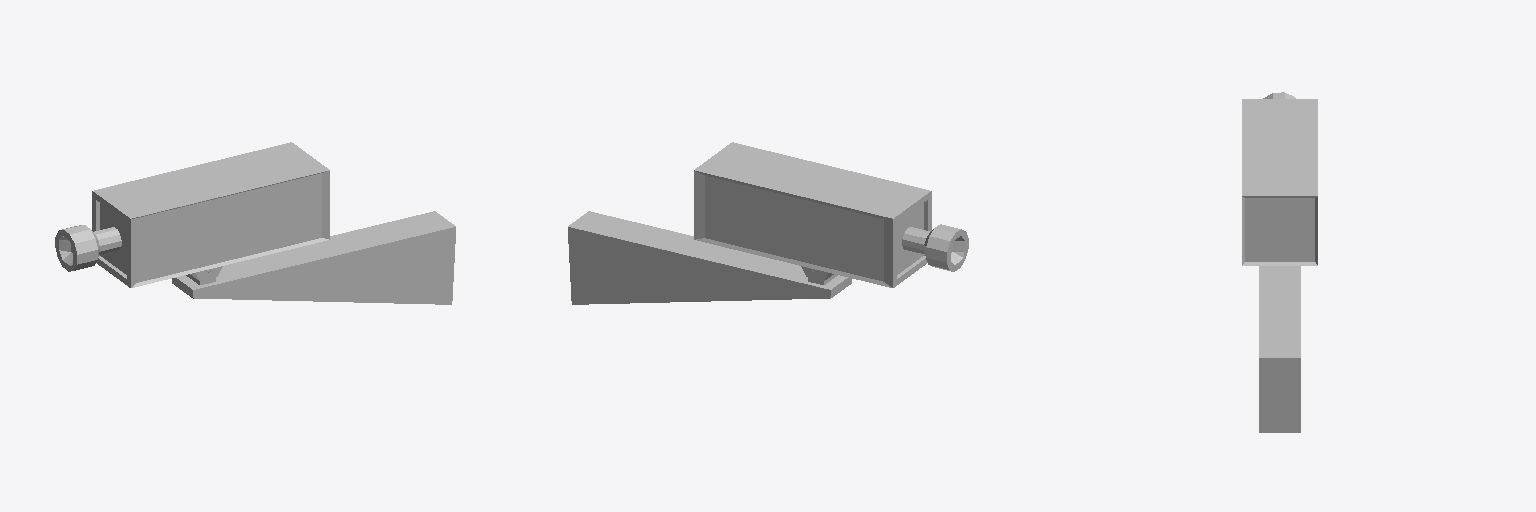
File: cctv camera.obj
3 views of the same model, side by side, from view 1: azimuth 30°, elevation 25°; view 2: azimuth 150°, elevation 25°; view 3: azimuth 270°, elevation 25° (orthographic).
Visible parts, largest first — view 1: camera_box_bit_Cube.004, wall_stand_Cube.001; view 2: camera_box_bit_Cube.004, wall_stand_Cube.001; view 3: camera_box_bit_Cube.004, wall_stand_Cube.001.
Part boxes in pixels (x1,y1,x2,y2): camera_box_bit_Cube.004: (55, 142, 329, 287); wall_stand_Cube.001: (172, 211, 455, 304); camera_box_bit_Cube.004: (694, 142, 968, 287); wall_stand_Cube.001: (568, 211, 851, 304); camera_box_bit_Cube.004: (1242, 92, 1317, 265); wall_stand_Cube.001: (1259, 266, 1300, 432).
Bounding box in the file's own units: 2.85 × 1.24 × 0.5.